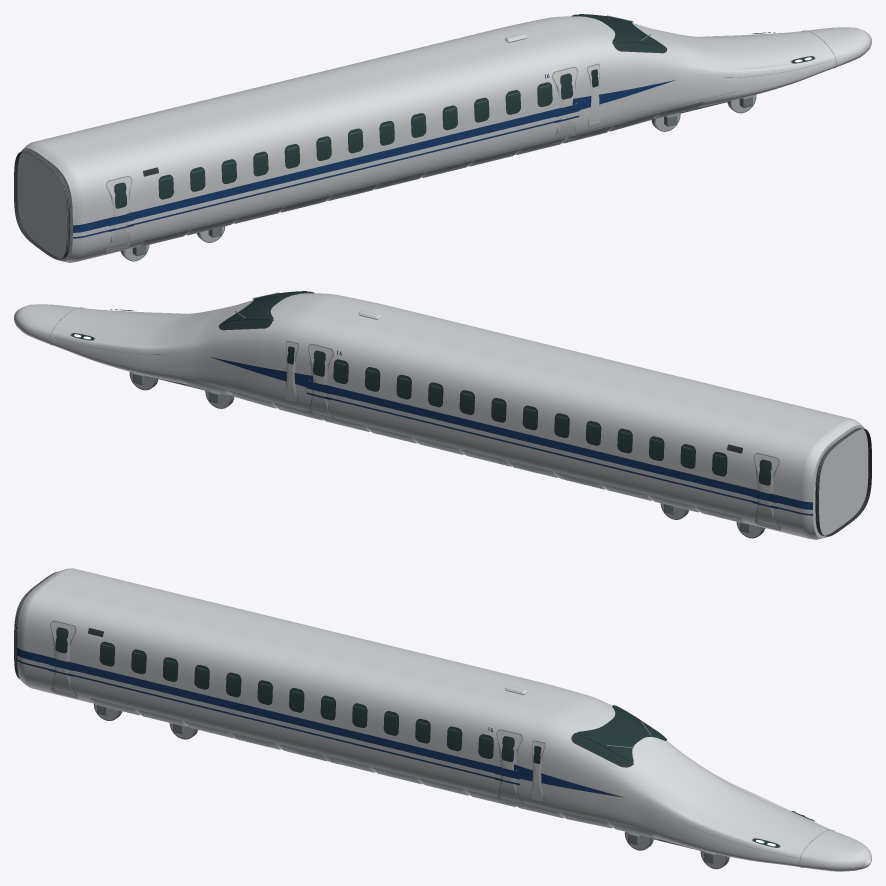
Rendered from n700s-lead.glb.
3 views of the same model, one above another, from view 1: azimuth 30°, elevation 25°; view 2: azimuth 150°, elevation 25°; view 3: azimuth 330°, elevation 25° (orthographic).
Parts seen in each view (by area): view 1: Pearl white enamel, Deep blue livery, Passenger tinted glazing, Underfloor aluminum fairing, Glazing gaskets and bellows, Panel recess, Cab laminated smoked glass, Bogie steel and pantograph, Machined wheel rim; view 2: Pearl white enamel, Deep blue livery, Passenger tinted glazing, Underfloor aluminum fairing, Glazing gaskets and bellows, Panel recess, Cab laminated smoked glass, Bogie steel and pantograph, Machined wheel rim; view 3: Pearl white enamel, Deep blue livery, Passenger tinted glazing, Underfloor aluminum fairing, Cab laminated smoked glass, Glazing gaskets and bellows, Panel recess, Bogie steel and pantograph, Machined wheel rim.
Boxes of the visible parts, x1,y1,x2,y2 form: Pearl white enamel: (17,16,871,262); Deep blue livery: (73,73,674,238); Passenger tinted glazing: (115,74,572,207); Underfloor aluminum fairing: (59,90,739,262); Glazing gaskets and bellows: (14,14,667,259); Panel recess: (18,30,836,259); Cab laminated smoked glass: (575,14,814,87); Bogie steel and pantograph: (120,15,815,261); Machined wheel rim: (124,95,755,260); Pearl white enamel: (14,293,868,539); Deep blue livery: (211,350,812,515); Passenger tinted glazing: (313,351,770,484); Underfloor aluminum fairing: (146,367,826,539); Glazing gaskets and bellows: (218,291,871,536); Panel recess: (49,307,867,536); Cab laminated smoked glass: (71,291,310,364); Bogie steel and pantograph: (70,292,765,538); Machined wheel rim: (130,372,761,537); Pearl white enamel: (17,568,871,871); Deep blue livery: (17,648,624,797); Passenger tinted glazing: (56,628,513,761); Underfloor aluminum fairing: (24,680,689,839); Cab laminated smoked glass: (533,705,814,847); Glazing gaskets and bellows: (14,572,666,767); Panel recess: (14,571,834,867); Bogie steel and pantograph: (69,661,814,869); Machined wheel rim: (94,704,725,868).
Size of the model in its own units: 27.35 by 3.71 by 3.44.
